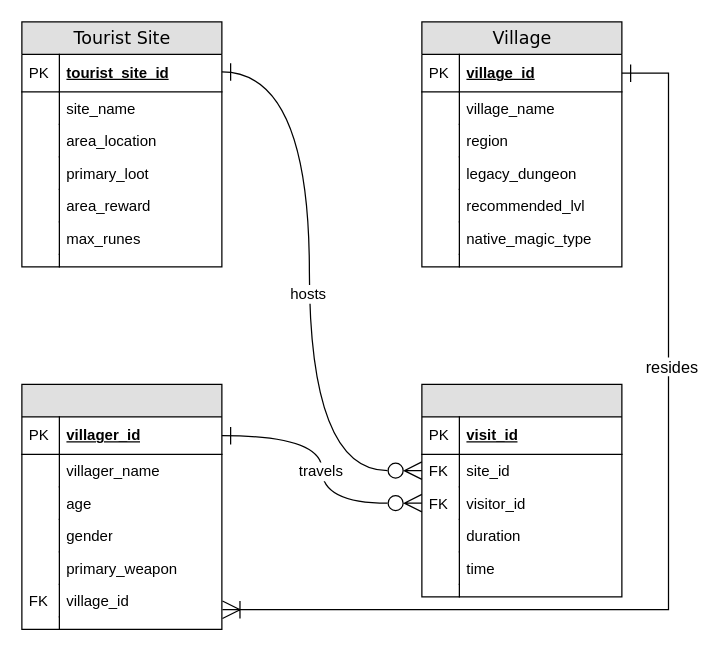
This 720x651 diagram has some shape labels left out. Here are the shapes that lost their labels. From the top down, the box of each, then its label:
(21, 383, 222, 629): Villagers
(421, 383, 622, 597): Visits
